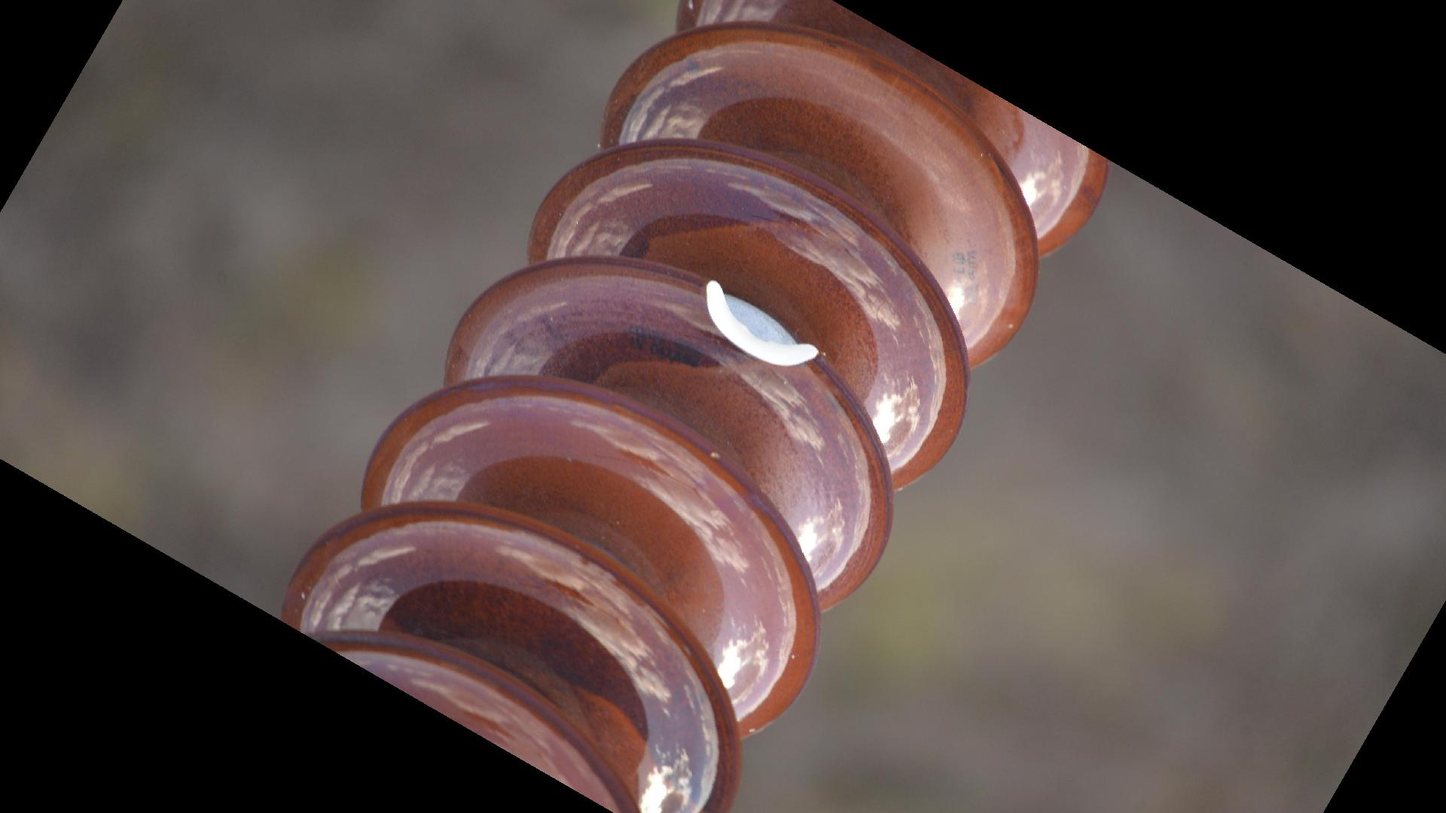insulator: (269, 1, 1116, 813)
insulator_breakage: (687, 273, 830, 387)
